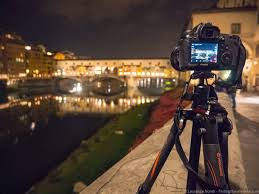camera: (177, 26, 240, 75)
